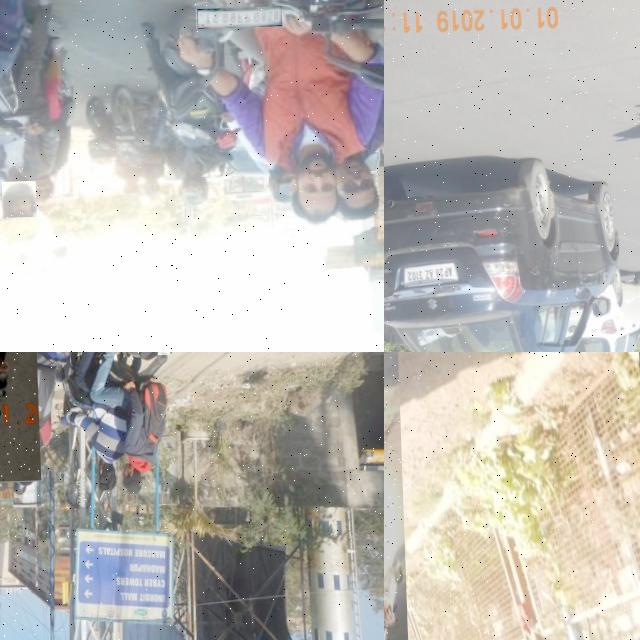helmet: (1, 179, 36, 216), (8, 444, 38, 485)
plate: (192, 5, 280, 28)
